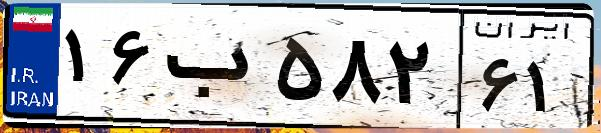1: (57, 26, 110, 100), (525, 38, 570, 115)
2: (385, 28, 445, 110)
5: (270, 28, 330, 110)
6: (475, 38, 525, 113), (110, 28, 158, 98)
8: (330, 28, 385, 110)
ب: (158, 20, 270, 120)
